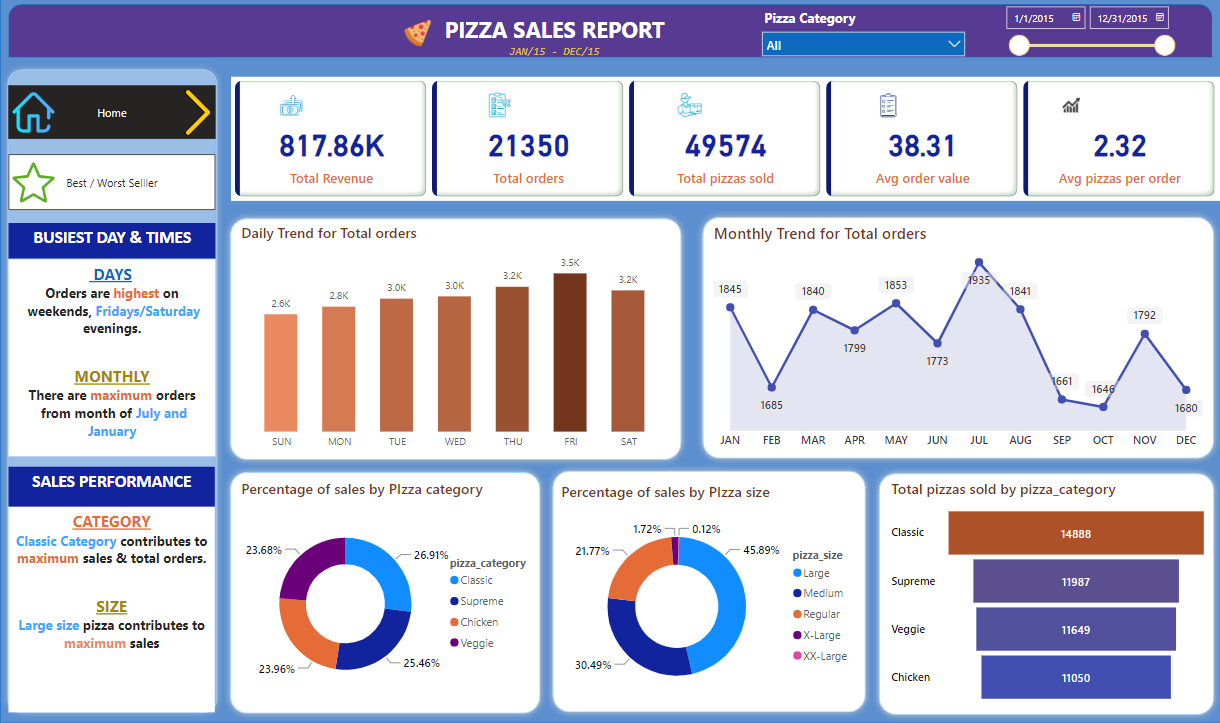

What the dashboard file says about the page in this screenshot:
{"tool":"powerbi","page":{"name":"Home","canvas":[1500,900],"ordinal":0},"visuals":[{"type":"shape","box":[11,0,1489,883.6],"z":0},{"type":"shape","box":[11.4,78.6,271.4,800],"z":1000},{"type":"cardVisual","fields":{"Data":["pizza_sales.Total Revenue","pizza_sales.Total orders","pizza_sales.Total pizzas sold","pizza_sales.Avg order value","pizza_sales.Avg pizzas per order"]},"box":[292.9,95.7,1207.1,151.4],"z":2000},{"type":"shape","box":[21,8,1466,65],"z":3000},{"type":"textbox","box":[520,15,331.7,58.3],"z":4000},{"type":"textbox","box":[621.7,50,130,30],"z":5000},{"type":"image","box":[478.3,21.7,83.3,43.3],"z":6000},{"type":"shape","box":[282.9,260,565.7,310],"z":7000},{"type":"columnChart","title":"Daily Trend for Total orders","fields":{"Category":["pizza_sales.Order day"],"Y":["pizza_sales.Total orders"]},"box":[300,274.3,531.4,284.3],"z":8000},{"type":"shape","box":[858.6,258.6,638.6,310],"z":9000},{"type":"areaChart","title":"Monthly Trend for Total orders ","fields":{"Category":["pizza_sales.Order Month"],"Y":["pizza_sales.Total orders"]},"box":[875.7,274.3,605.7,284.3],"z":10000},{"type":"shape","box":[282.5,568.8,393.8,310],"z":11000},{"type":"shape","box":[675.7,568.6,397.1,310],"z":12000},{"type":"shape","box":[1072.9,571.4,424.3,310],"z":13000},{"type":"donutChart","title":"Percentage of sales by PIzza category","fields":{"Category":["pizza_sales.pizza_category"],"Y":["pizza_sales.Total Revenue"]},"box":[300,586.2,373.8,281.2],"z":14000},{"type":"donutChart","title":"Percentage of sales by PIzza size","fields":{"Y":["pizza_sales.Total Revenue"],"Category":["pizza_sales.pizza_size"]},"box":[690,588.6,371.4,281.4],"z":15000},{"type":"funnel","fields":{"Y":["pizza_sales.Total pizzas sold"],"Category":["pizza_sales.pizza_category"]},"box":[1091.4,585.7,395.7,284.3],"z":16000},{"type":"textbox","box":[20.9,274.6,252.2,43.3],"z":17000},{"type":"textbox","box":[20.9,317.9,252.2,240.3],"z":18000},{"type":"textbox","box":[21.4,571.4,251.4,48.6],"z":19000},{"type":"textbox","box":[21.4,620,251.4,250],"z":20000},{"type":"slicer","fields":{"Values":["pizza_sales.pizza_category"]},"box":[928.2,7,267.6,64.8],"z":21000},{"type":"slicer","fields":{"Values":["pizza_sales.order_date"]},"box":[1223.9,0,226.8,71.8],"z":22000},{"type":"pageNavigator","box":[20.9,106,252.2,65.7],"z":23000},{"type":"pageNavigator","box":[20.9,191,252.2,68.7],"z":24000},{"type":"image","box":[168.7,106,167.2,65.7],"z":25000},{"type":"image","box":[20.9,106,61.2,65.7],"z":26000},{"type":"image","box":[20.9,191,61.2,68.7],"z":27000}]}

Visuals, with their boxes in screenshot pixels (x1, y1, x2, y2), scaled from the page's 1500x900 canvas onto the 1220x723 screenshot:
shape: locate(9, 0, 1219, 710)
shape: locate(9, 63, 230, 706)
cardVisual - pizza_sales.Total Revenue x pizza_sales.Total orders: locate(238, 77, 1219, 199)
shape: locate(17, 6, 1209, 59)
textbox: locate(423, 12, 693, 59)
textbox: locate(506, 40, 611, 64)
image: locate(389, 17, 457, 52)
shape: locate(230, 209, 690, 458)
"Daily Trend for Total orders" columnChart: locate(244, 220, 676, 449)
shape: locate(698, 208, 1218, 457)
"Monthly Trend for Total orders " areaChart: locate(712, 220, 1205, 449)
shape: locate(230, 457, 550, 706)
shape: locate(550, 457, 873, 706)
shape: locate(873, 459, 1218, 708)
"Percentage of sales by PIzza category" donutChart: locate(244, 471, 548, 697)
"Percentage of sales by PIzza size" donutChart: locate(561, 473, 863, 699)
funnel - pizza_sales.Total pizzas sold x pizza_sales.pizza_category: locate(888, 471, 1210, 699)
textbox: locate(17, 221, 222, 255)
textbox: locate(17, 255, 222, 448)
textbox: locate(17, 459, 222, 498)
textbox: locate(17, 498, 222, 699)
slicer - pizza_sales.pizza_category: locate(755, 6, 973, 58)
slicer - pizza_sales.order_date: locate(995, 0, 1180, 58)
pageNavigator: locate(17, 85, 222, 138)
pageNavigator: locate(17, 153, 222, 209)
image: locate(137, 85, 273, 138)
image: locate(17, 85, 67, 138)
image: locate(17, 153, 67, 209)
